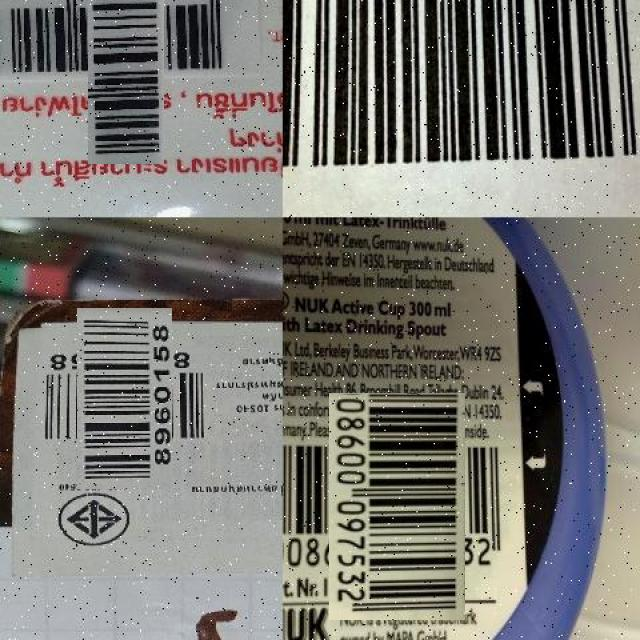Barcode: (283, 0, 640, 198), (306, 416, 488, 598), (44, 0, 209, 120), (55, 329, 193, 468)
